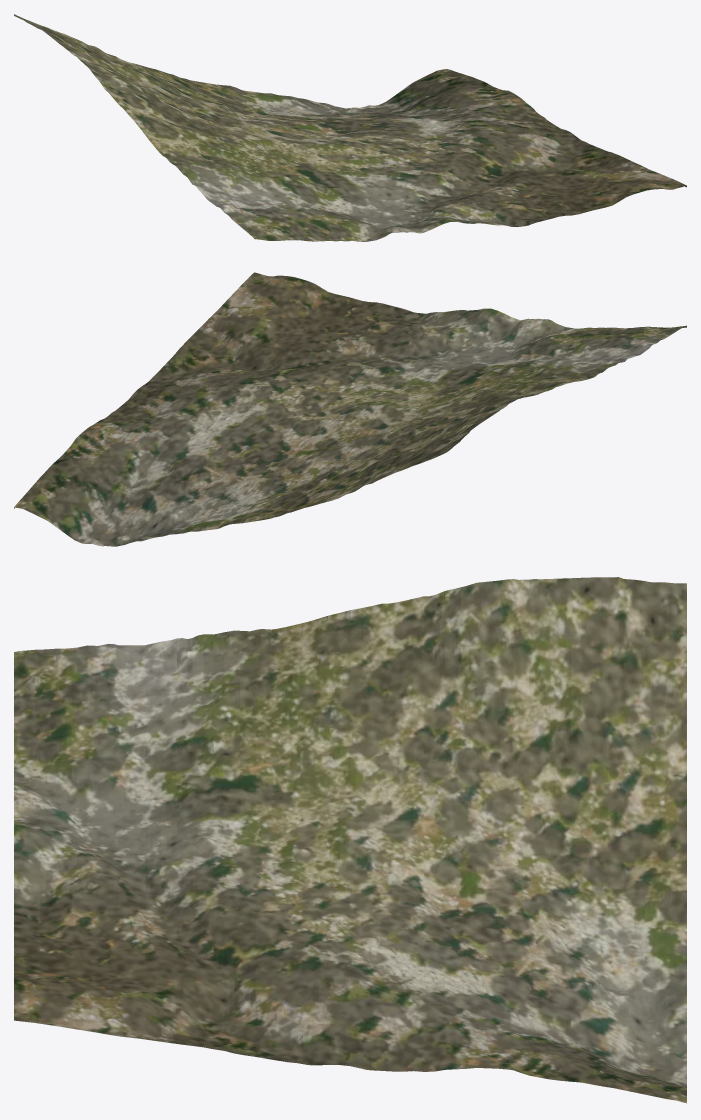
The picture shows the model from 3 angles, top to bottom: view 1: azimuth 30°, elevation 25°; view 2: azimuth 150°, elevation 25°; view 3: azimuth 270°, elevation 25°; orthographic projection. The views are drawn at different scales.
Bounding box in the file's own units: 250 × 103 × 241.
Materials: 1 (1 with a texture image).
